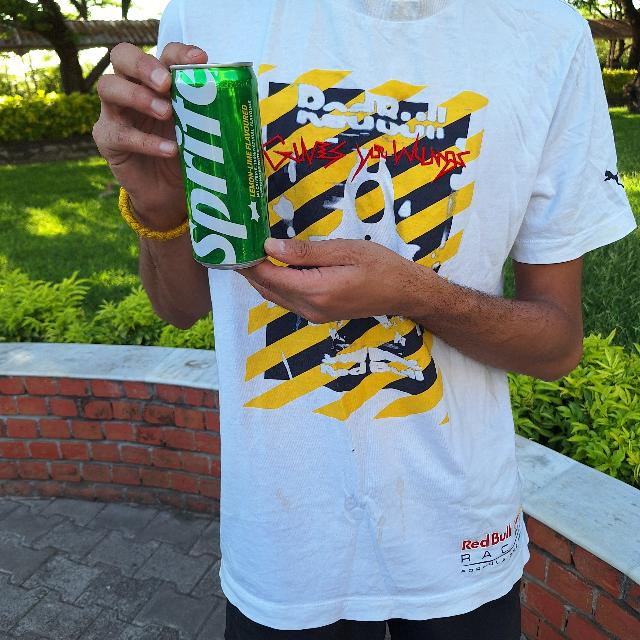Sprite: (166, 57, 274, 273)
